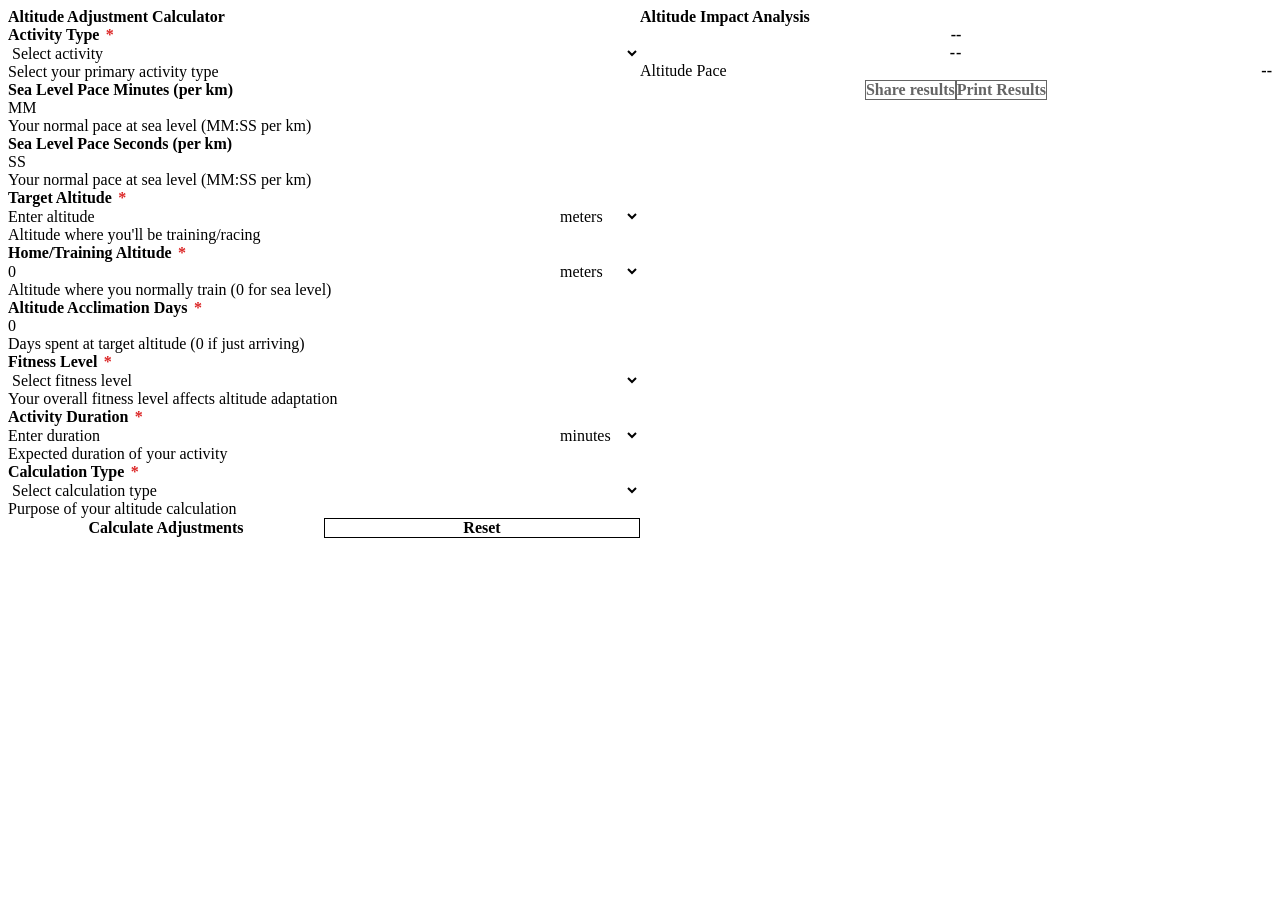
Test case: AltitudeAdjustmentCalculator › validates with the source messages before calculating
Click the button "Calculate Adjustments" at coordinates (166, 528), box [8,518,324,538]
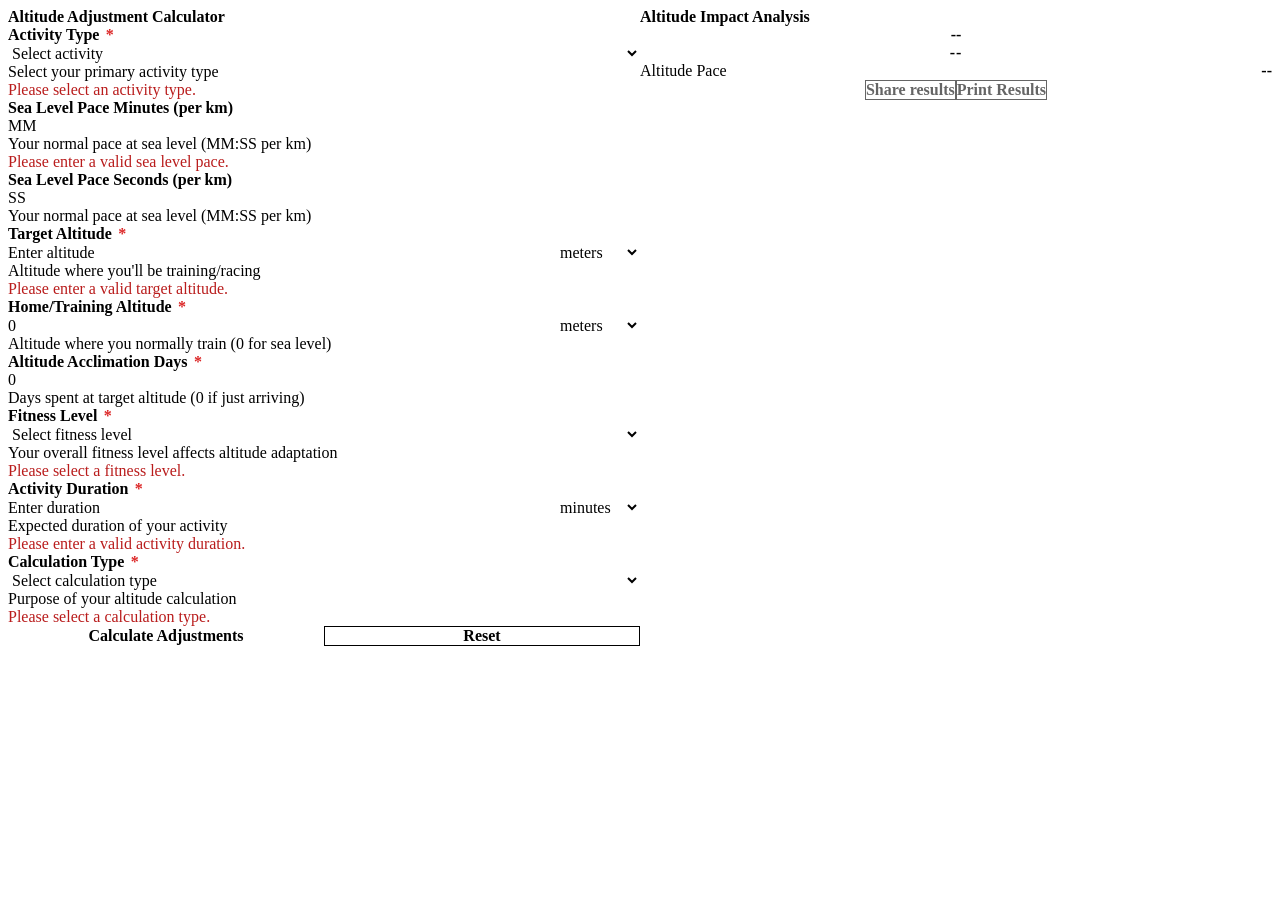
Check: the text "Please select an activity type." is shown, box [8,81,196,98]
Check: the text "Please enter a valid sea level pace." is shown, box [8,153,229,170]
Check: the text "Please enter a valid target altitude." is shown, box [8,280,228,297]
